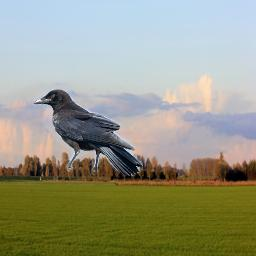Crow: (33, 89, 143, 176)
